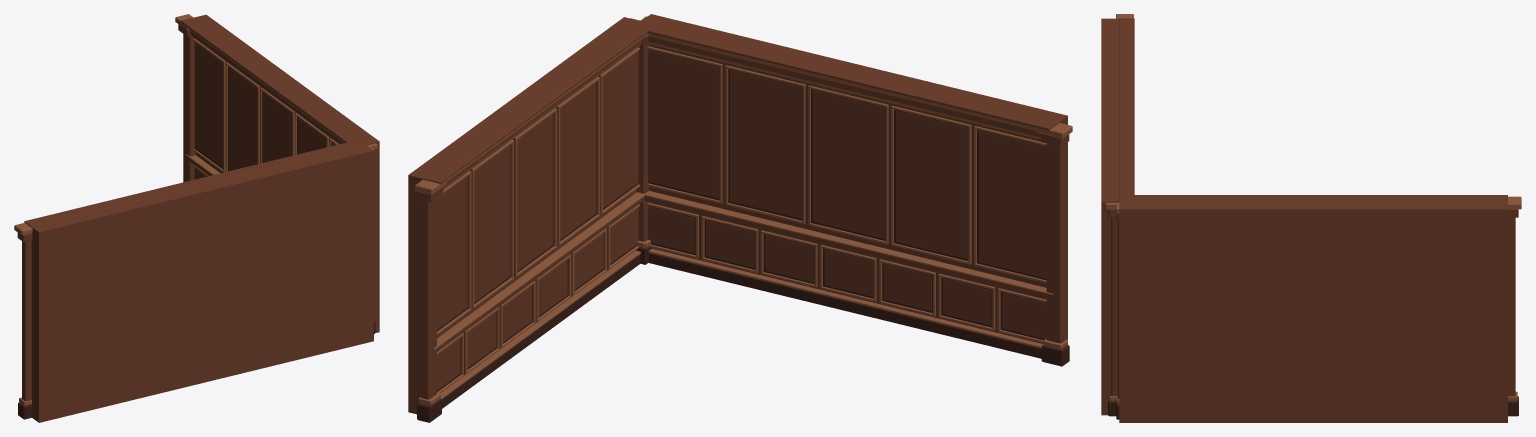
Rendered from r07_complete_shell.glb.
3 renders of one model, left to right at view 1: azimuth 30°, elevation 25°; view 2: azimuth 150°, elevation 25°; view 3: azimuth 270°, elevation 25°, orthographic. The views are drawn at different scales.
Parts seen in each view (by area): view 1: R07_front_Wall_Solid_00, R07_right_Wall_Solid_00, R07_right_Wall_UpperPanel_00_0_0_Field, R07_right_Wall_UpperPanel_00_0_1_Field, R07_front_Wall_Cornice_00_3_0, R07_right_Wall_Cornice_00_3_0, R07_right_Wall_UpperPanel_00_0_2_Field, Pilaster_Shaft_004, Pilaster_Shaft_009, R07_right_Wall_UpperPanel_00_0_3_Field, R07_right_Wall_Cornice_00_1_0, R07_right_Wall_Cornice_00_2_0; view 2: R07_front_Wall_Solid_00, R07_front_Wall_UpperPanel_00_0_3_Field, R07_front_Wall_UpperPanel_00_0_2_Field, R07_front_Wall_UpperPanel_00_0_1_Field, R07_front_Wall_UpperPanel_00_0_0_Field, R07_front_Wall_UpperPanel_00_0_4_Field, R07_right_Wall_Solid_00, R07_right_Wall_UpperPanel_00_0_1_Field, R07_right_Wall_UpperPanel_00_0_3_Field, R07_right_Wall_UpperPanel_00_0_2_Field, R07_right_Wall_UpperPanel_00_0_4_Field, R07_front_Wall_Cornice_00_3_0 (+36 smaller); view 3: R07_right_Wall_Solid_00, R07_front_Wall_Solid_00, R07_front_Wall_Cornice_00_3_0, R07_right_Wall_Cornice_00_3_0, Pilaster_Shaft_004, Pilaster_Shaft_005.
Part boxes in pixels (x1,y1,x2,y2): R07_front_Wall_Solid_00: [31, 145, 373, 422]; R07_right_Wall_Solid_00: [193, 14, 379, 332]; R07_right_Wall_UpperPanel_00_0_0_Field: [194, 42, 223, 167]; R07_right_Wall_UpperPanel_00_0_1_Field: [228, 67, 257, 170]; R07_front_Wall_Cornice_00_3_0: [24, 142, 365, 226]; R07_right_Wall_Cornice_00_3_0: [180, 17, 363, 146]; R07_right_Wall_UpperPanel_00_0_2_Field: [263, 92, 292, 162]; Pilaster_Shaft_004: [183, 34, 195, 182]; Pilaster_Shaft_009: [22, 241, 31, 401]; R07_right_Wall_UpperPanel_00_0_3_Field: [297, 118, 326, 154]; R07_right_Wall_Cornice_00_1_0: [190, 31, 342, 143]; R07_right_Wall_Cornice_00_2_0: [188, 28, 344, 143]; R07_front_Wall_Solid_00: [642, 14, 1067, 343]; R07_front_Wall_UpperPanel_00_0_3_Field: [895, 111, 967, 259]; R07_front_Wall_UpperPanel_00_0_2_Field: [812, 90, 884, 238]; R07_front_Wall_UpperPanel_00_0_1_Field: [730, 70, 801, 218]; R07_front_Wall_UpperPanel_00_0_0_Field: [648, 50, 718, 198]; R07_front_Wall_UpperPanel_00_0_4_Field: [978, 131, 1046, 278]; R07_right_Wall_Solid_00: [408, 17, 640, 414]; R07_right_Wall_UpperPanel_00_0_1_Field: [474, 145, 510, 302]; R07_right_Wall_UpperPanel_00_0_3_Field: [560, 82, 596, 239]; R07_right_Wall_UpperPanel_00_0_2_Field: [517, 114, 553, 270]; R07_right_Wall_UpperPanel_00_0_4_Field: [603, 51, 638, 208]; R07_front_Wall_Cornice_00_3_0: [633, 21, 1057, 130]; R07_right_Wall_Solid_00: [1119, 201, 1507, 422]; R07_front_Wall_Solid_00: [1101, 18, 1119, 415]; R07_front_Wall_Cornice_00_3_0: [1119, 18, 1134, 201]; R07_right_Wall_Cornice_00_3_0: [1119, 195, 1507, 201]; Pilaster_Shaft_004: [1508, 217, 1515, 396]; Pilaster_Shaft_005: [1111, 217, 1117, 396].
Bounding box in the file's own units: 7.3 × 3.71 × 6.6.
